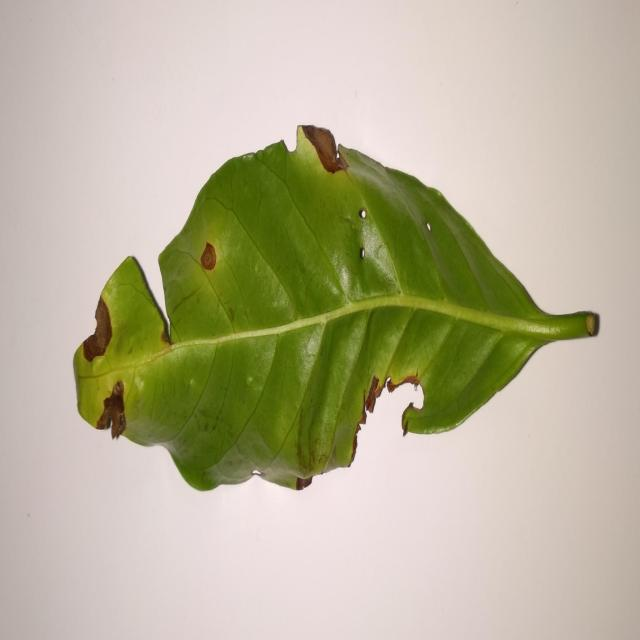Enfermedad-Antracnosis: (71, 126, 601, 494)
